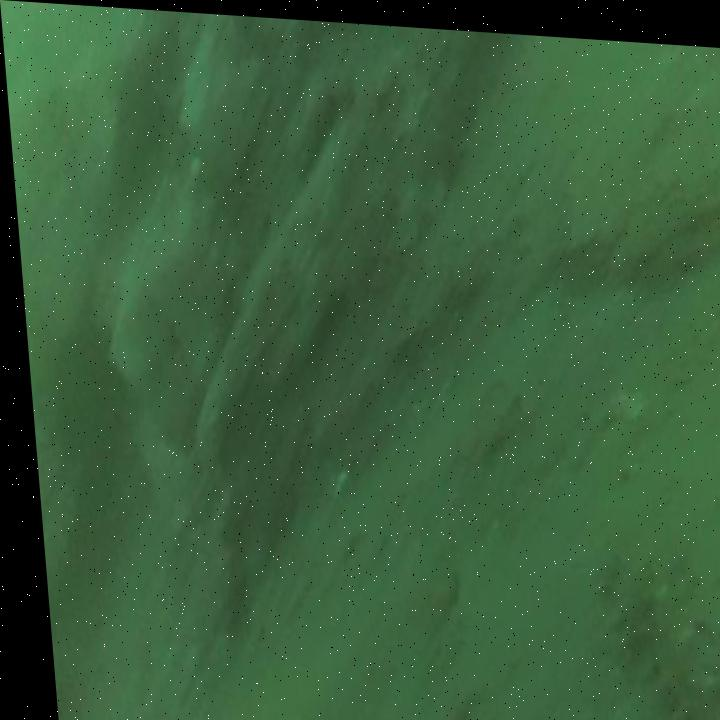holothurian: (588, 545, 719, 720)
